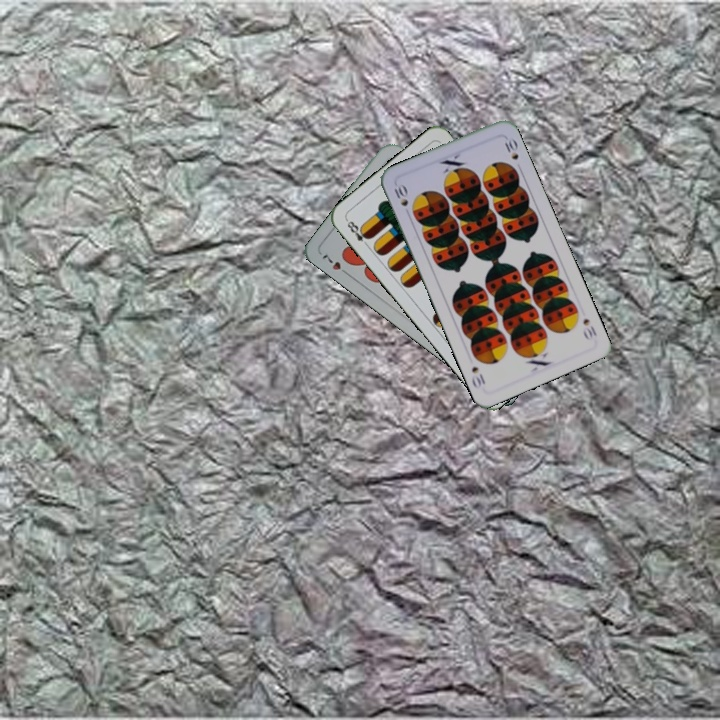E8: (342, 216, 373, 250)
H7: (318, 250, 352, 279)
S10: (390, 180, 411, 209), (579, 314, 599, 343)
